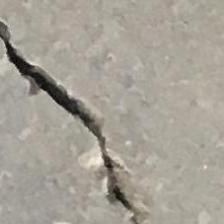Crack: (0, 13, 146, 223)
